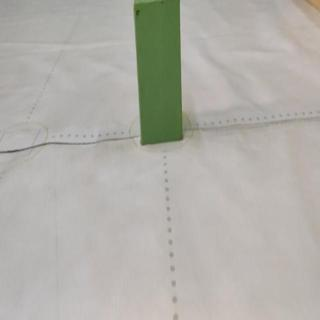greenbox: (133, 0, 185, 147)
